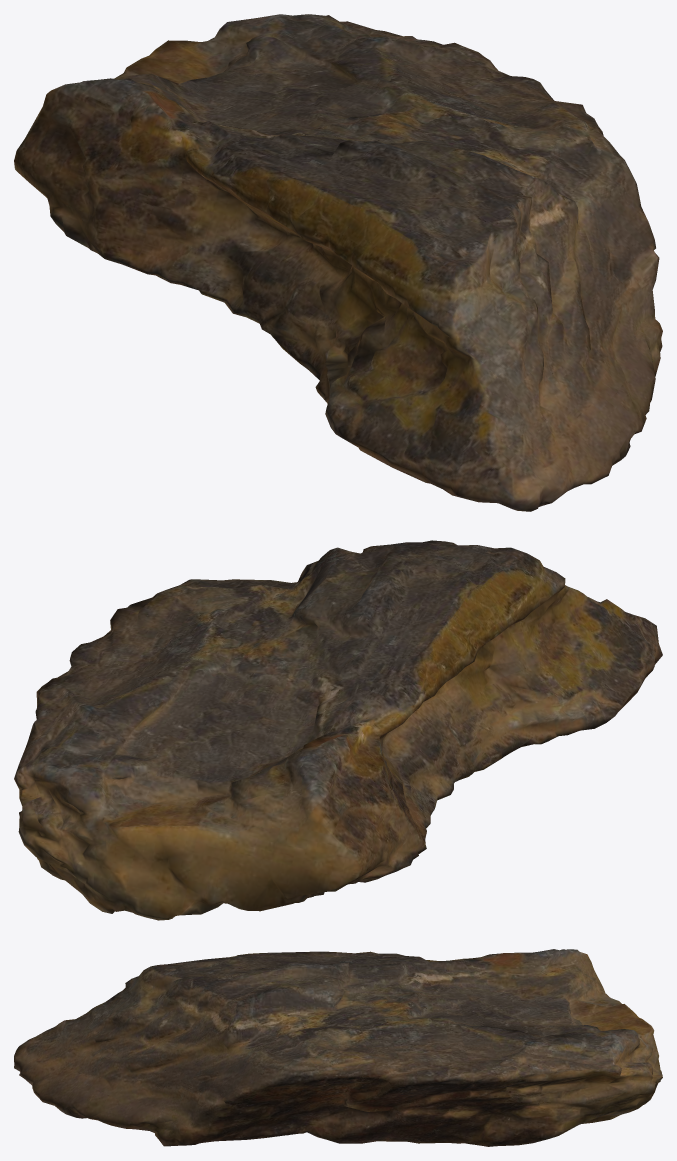
File: rock_09.glb
The picture shows the model from 3 angles, top to bottom: view 1: azimuth 30°, elevation 25°; view 2: azimuth 150°, elevation 25°; view 3: azimuth 270°, elevation 25°; orthographic projection. The views are drawn at different scales.
Parts seen in each view (by area): view 1: rock_09_LOD0; view 2: rock_09_LOD0; view 3: rock_09_LOD0.
Part boxes in pixels (x1,y1,x2,y2): rock_09_LOD0: (14,14,662,511); rock_09_LOD0: (14,540,662,920); rock_09_LOD0: (14,949,662,1146).
Size of the model in its own units: 0.074 by 0.0328 by 0.1446.
Materials: 1 (1 with a texture image).
